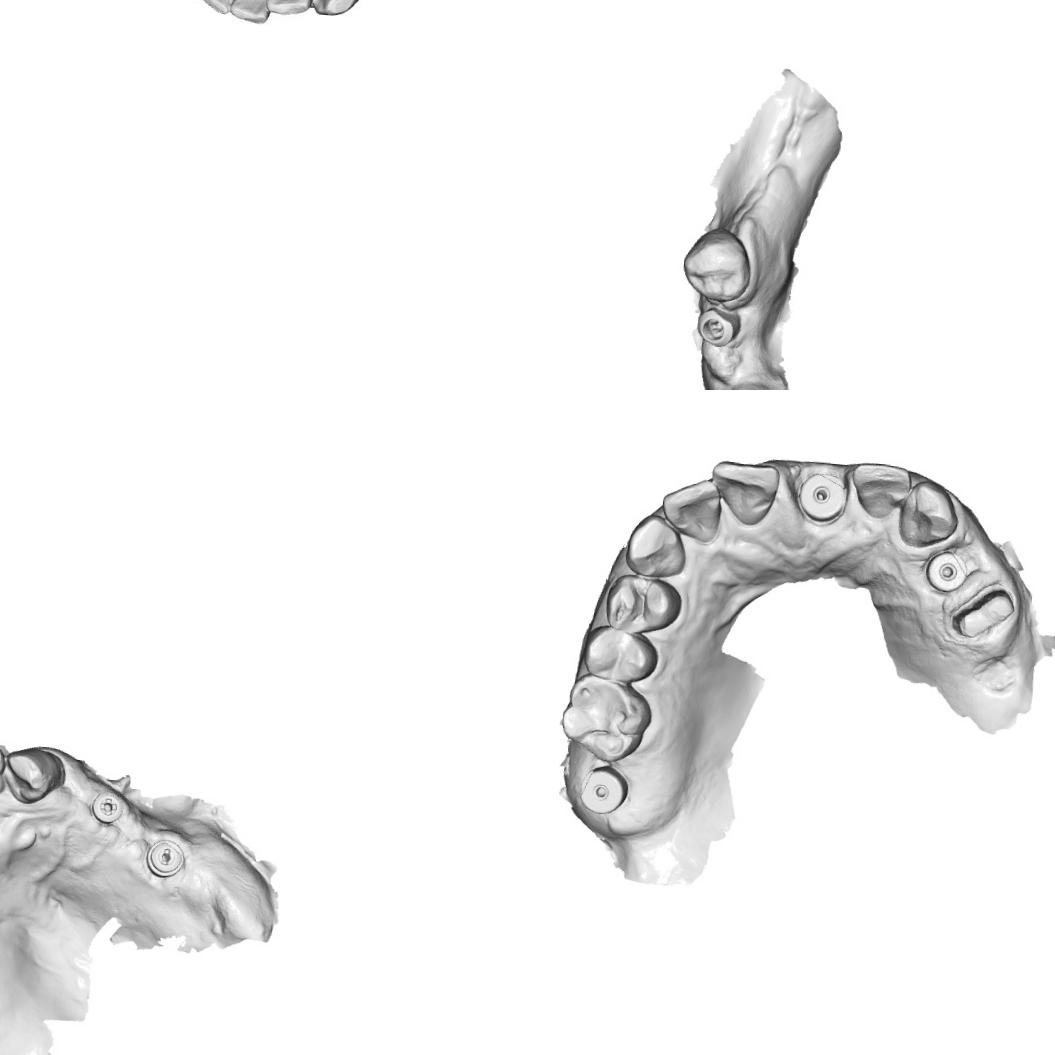canine: (621, 509, 691, 582), (897, 477, 961, 552), (0, 742, 68, 807), (310, 0, 366, 20)
crown: (945, 578, 1020, 646)
implant: (794, 468, 850, 527), (577, 761, 628, 817), (692, 305, 741, 351), (924, 550, 970, 596)
implant_minus: (142, 836, 186, 880)
implant_plus: (87, 788, 126, 827)
incisor: (705, 456, 782, 529), (656, 474, 725, 546), (846, 458, 914, 520), (223, 0, 273, 28), (193, 0, 240, 17), (271, 0, 314, 14)
molar: (559, 670, 655, 767)
premolar: (677, 224, 754, 306), (602, 571, 683, 638), (577, 620, 660, 682)
